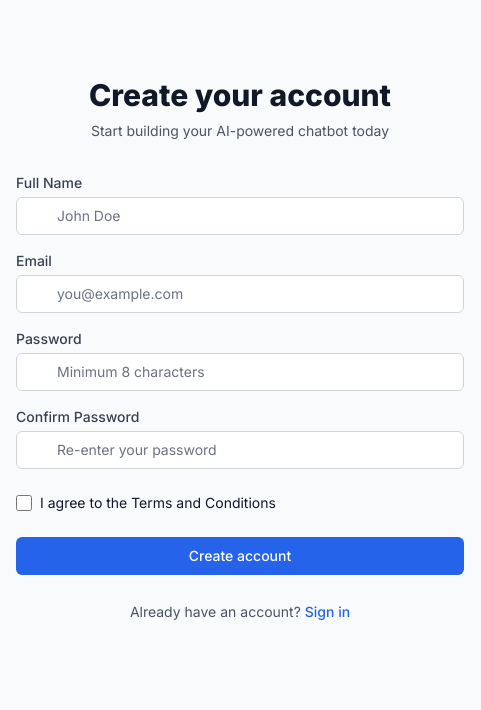
Test: SignupPage › displays validation error for name that is too short
Step 1. Type "J" into the field labelled "Full Name" → (240, 216), box [16,197,464,235]
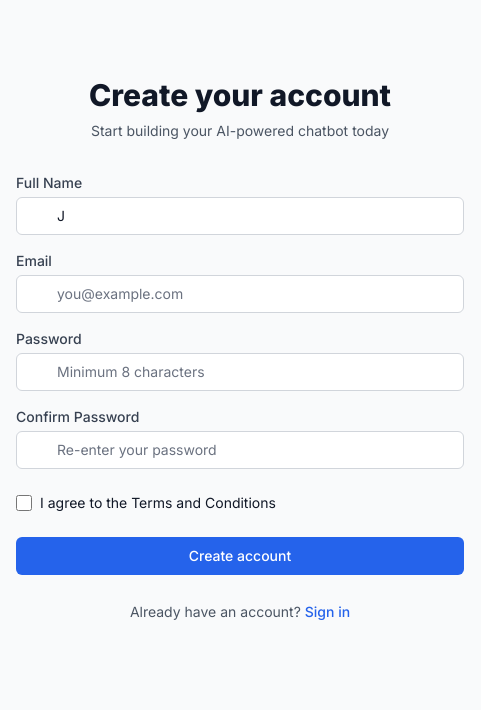
Step 2. Click the button "Create account" → (240, 556), box [16,537,464,575]
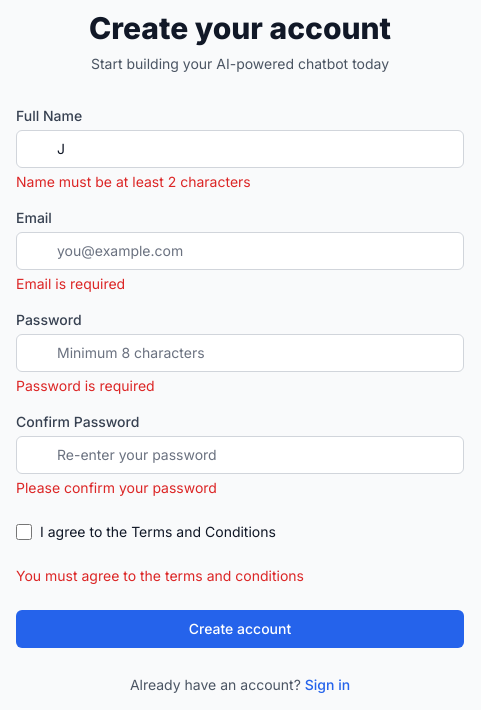
Check: the text "Name must be at least 2 characters" is shown, box [16,173,251,190]
